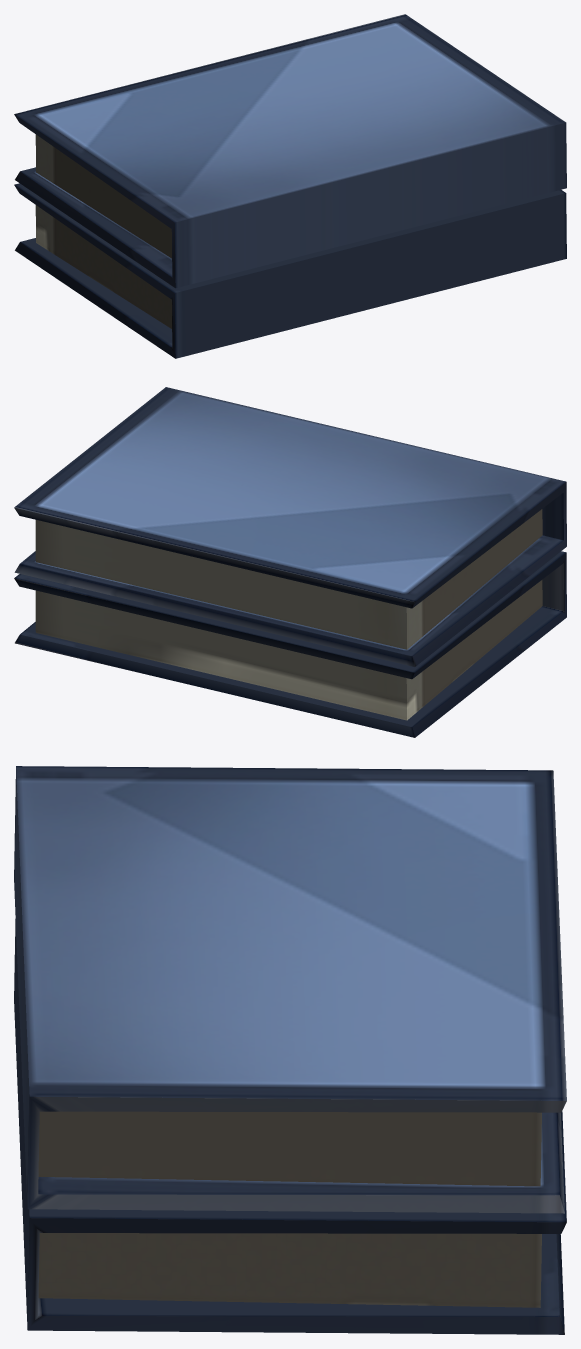
File: Tx_props_books2_38.fbx
3 renders of one model, top to bottom at view 1: azimuth 30°, elevation 25°; view 2: azimuth 150°, elevation 25°; view 3: azimuth 270°, elevation 25°, orthographic. The views are drawn at different scales.
Parts seen in each view (by area): view 1: Tx_props_books2_7; view 2: Tx_props_books2_7; view 3: Tx_props_books2_7.
Part boxes in pixels (x1=…): Tx_props_books2_7: x1=14, y1=14, x2=566, y2=358; Tx_props_books2_7: x1=14, y1=387, x2=566, y2=737; Tx_props_books2_7: x1=14, y1=766, x2=566, y2=1334.
Bounding box in the file's own units: 1.66 × 0.5597 × 1.15.
